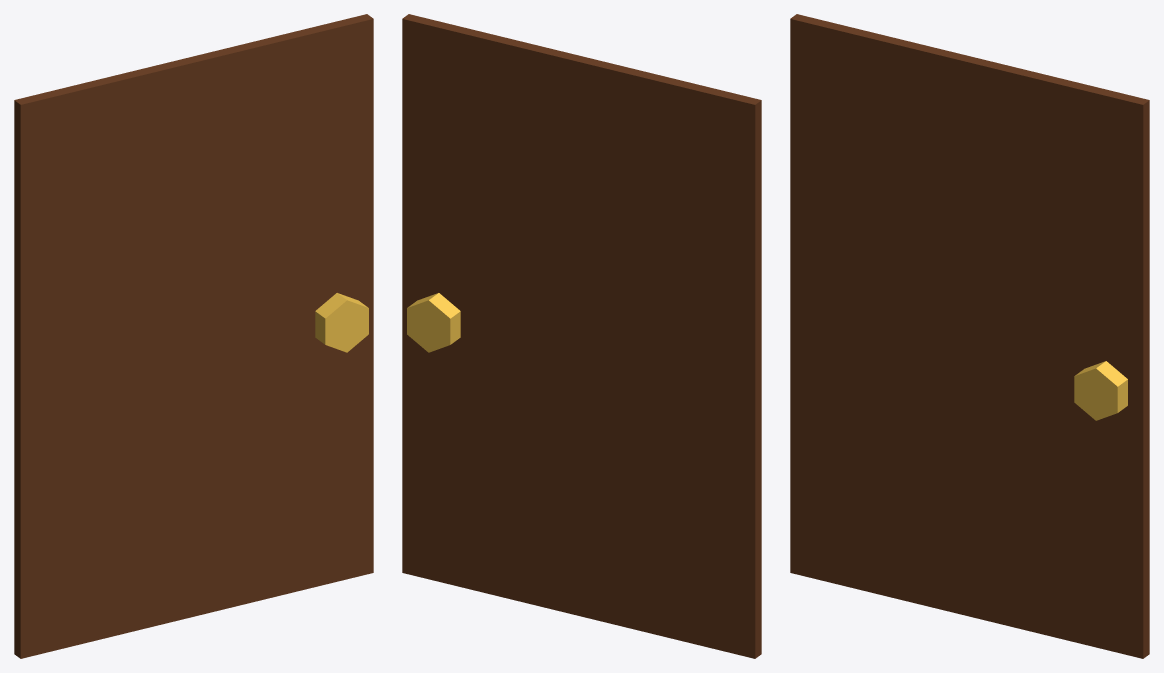
Rendered from Door.fbx.
The picture shows the model from 3 angles, left to right: view 1: azimuth 30°, elevation 25°; view 2: azimuth 150°, elevation 25°; view 3: azimuth 330°, elevation 25°; orthographic projection.
Visible parts, largest first — view 1: Plane; view 2: Plane; view 3: Plane.
Boxes of the visible parts, <box> form: Plane: <box>14,14,373,658</box>; Plane: <box>402,14,761,658</box>; Plane: <box>790,14,1149,658</box>.
Bounding box in the file's own units: 200 × 300 × 26.71.
